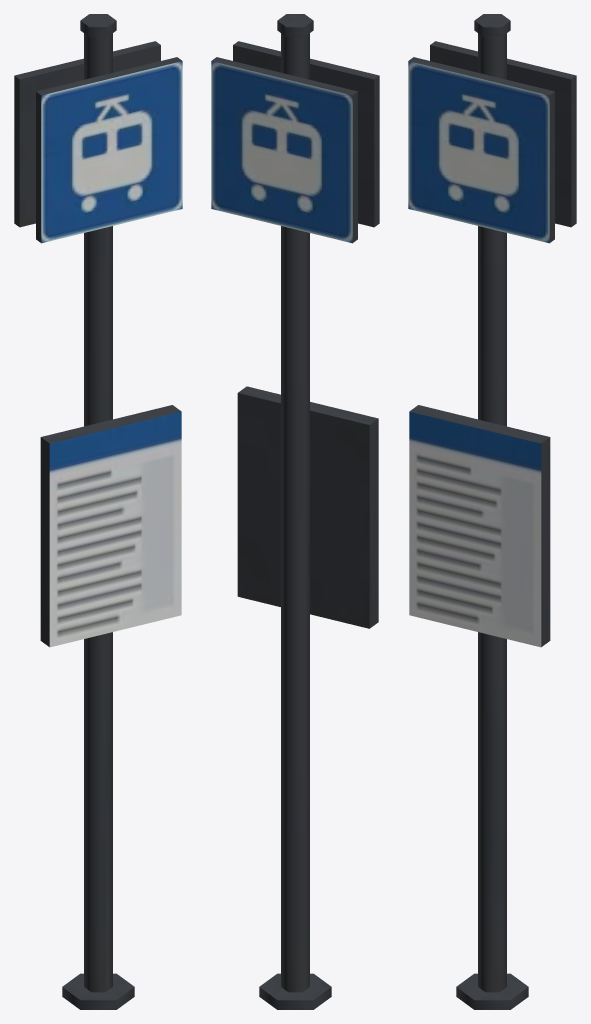
Rendered from totem_arret_lod1.glb.
3 renders of one model, left to right at view 1: azimuth 30°, elevation 25°; view 2: azimuth 150°, elevation 25°; view 3: azimuth 330°, elevation 25°, orthographic.
Parts seen in each view (by area): view 1: totem_arret; view 2: totem_arret; view 3: totem_arret.
Part boxes in pixels (x1,y1,x2,y2): totem_arret: [14, 14, 182, 1009]; totem_arret: [211, 14, 379, 1009]; totem_arret: [408, 14, 576, 1009].
Size of the model in its own units: 0.4499 by 2.97 by 0.2001.
Materials: 1 (1 with a texture image).
